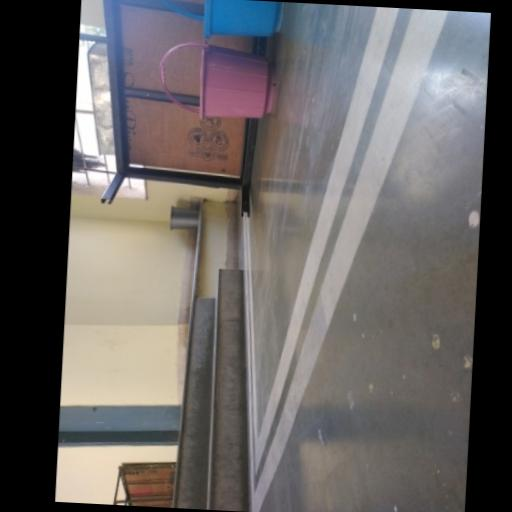stairs: (174, 268, 249, 511)
